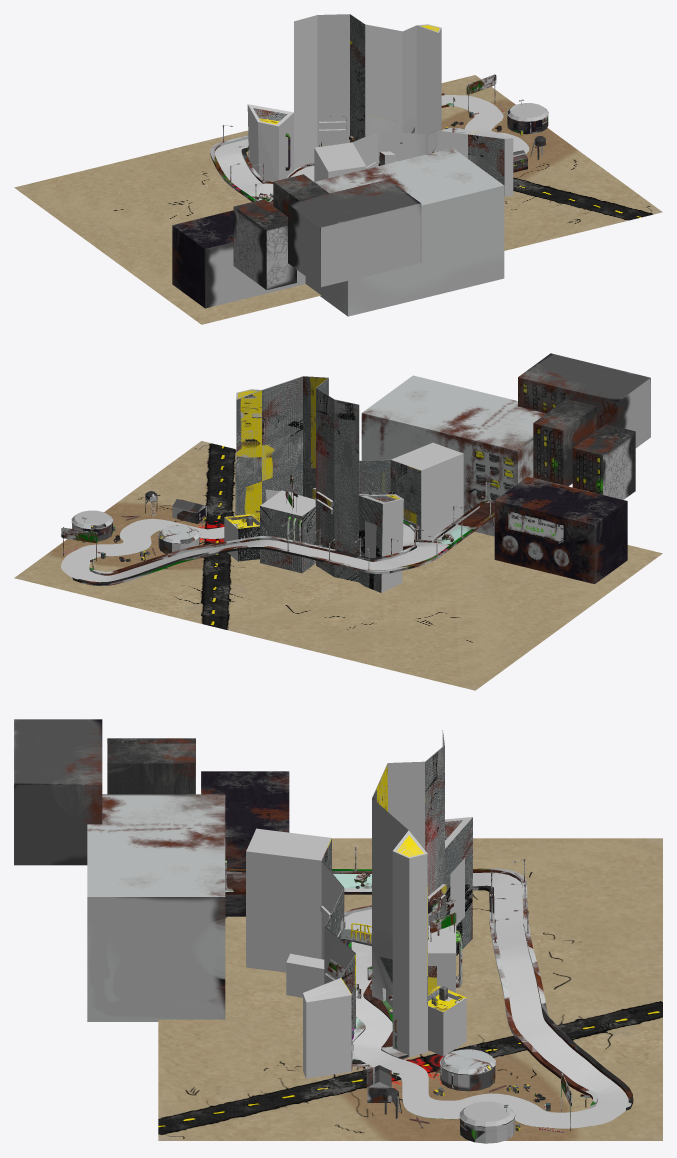
File: circuitoFINAL.obj
3 renders of one model, top to bottom at view 1: azimuth 30°, elevation 25°; view 2: azimuth 150°, elevation 25°; view 3: azimuth 270°, elevation 25°, orthographic. The views are drawn at different scales.
Parts seen in each view (by area): view 1: EdificiosFondo_Cube.043, PlanoCarretera_Plane, EdificiosPasillos_BezierCurve.000_CUBezierCurve.002, EdificiosPasillos_EdificiosPasillos, Pista.001_BezierCurve.001_CUBezierCurve.000, EdificiosIndustrial_Cylinder.001_Cylinder.016, EdificiosPasillos.001_EdificiosPasillos.001, PistaBordillo_BezierCurve.003_CUBezierCurve.003; view 2: PlanoCarretera_Plane, EdificiosFondo_Cube.043, EdificiosPasillos_EdificiosPasillos, EdificiosPasillos.001_EdificiosPasillos.001, EdificiosPasillos_BezierCurve.000_CUBezierCurve.002, Pista.001_BezierCurve.001_CUBezierCurve.000, PistaBordillo_BezierCurve.003_CUBezierCurve.003, EdificiosIndustrial_Cylinder.001_Cylinder.016, Señales_Cube.023, Farolas_Cube.021; view 3: PlanoCarretera_Plane, EdificiosFondo_Cube.043, EdificiosPasillos_BezierCurve.000_CUBezierCurve.002, Pista.001_BezierCurve.001_CUBezierCurve.000, EdificiosPasillos_EdificiosPasillos, PistaBordillo_BezierCurve.003_CUBezierCurve.003, EdificiosIndustrial_Cylinder.001_Cylinder.016, EdificiosPasillos.001_EdificiosPasillos.001, Señales_Cube.023.
Boxes of the visible parts, bbox=[...] form: EdificiosFondo_Cube.043: bbox=[172, 148, 504, 316]; PlanoCarretera_Plane: bbox=[14, 75, 662, 324]; EdificiosPasillos_BezierCurve.000_CUBezierCurve.002: bbox=[247, 14, 513, 196]; EdificiosPasillos_EdificiosPasillos: bbox=[253, 14, 504, 184]; Pista.001_BezierCurve.001_CUBezierCurve.000: bbox=[214, 95, 529, 196]; EdificiosIndustrial_Cylinder.001_Cylinder.016: bbox=[441, 99, 548, 172]; EdificiosPasillos.001_EdificiosPasillos.001: bbox=[255, 18, 503, 182]; PistaBordillo_BezierCurve.003_CUBezierCurve.003: bbox=[210, 93, 527, 201]; PlanoCarretera_Plane: bbox=[14, 441, 662, 690]; EdificiosFondo_Cube.043: bbox=[361, 353, 650, 584]; EdificiosPasillos_EdificiosPasillos: bbox=[225, 376, 421, 592]; EdificiosPasillos.001_EdificiosPasillos.001: bbox=[227, 377, 420, 590]; EdificiosPasillos_BezierCurve.000_CUBezierCurve.002: bbox=[224, 376, 463, 592]; Pista.001_BezierCurve.001_CUBezierCurve.000: bbox=[61, 518, 448, 582]; PistaBordillo_BezierCurve.003_CUBezierCurve.003: bbox=[64, 499, 494, 585]; EdificiosIndustrial_Cylinder.001_Cylinder.016: bbox=[71, 491, 207, 553]; Señales_Cube.023: bbox=[61, 474, 419, 568]; Farolas_Cube.021: bbox=[282, 482, 495, 570]; PlanoCarretera_Plane: bbox=[158, 838, 662, 1140]; EdificiosFondo_Cube.043: bbox=[14, 719, 289, 1021]; EdificiosPasillos_BezierCurve.000_CUBezierCurve.002: bbox=[246, 731, 472, 1078]; Pista.001_BezierCurve.001_CUBezierCurve.000: bbox=[344, 872, 628, 1128]; EdificiosPasillos_EdificiosPasillos: bbox=[291, 730, 472, 1070]; PistaBordillo_BezierCurve.003_CUBezierCurve.003: bbox=[225, 868, 633, 1128]; EdificiosIndustrial_Cylinder.001_Cylinder.016: bbox=[366, 1044, 515, 1143]; EdificiosPasillos.001_EdificiosPasillos.001: bbox=[323, 750, 472, 1070]; Señales_Cube.023: bbox=[327, 885, 590, 1130].
Bounding box in the file's own units: 3265 × 1205 × 2924.
